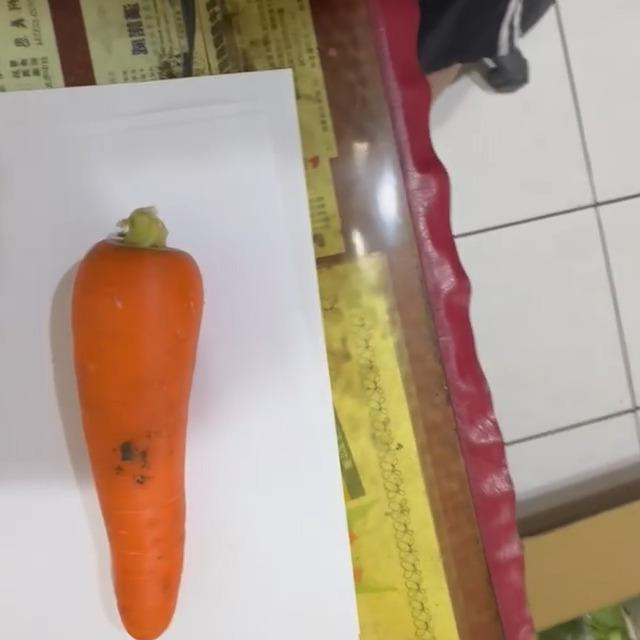carrot: (67, 202, 206, 640)
